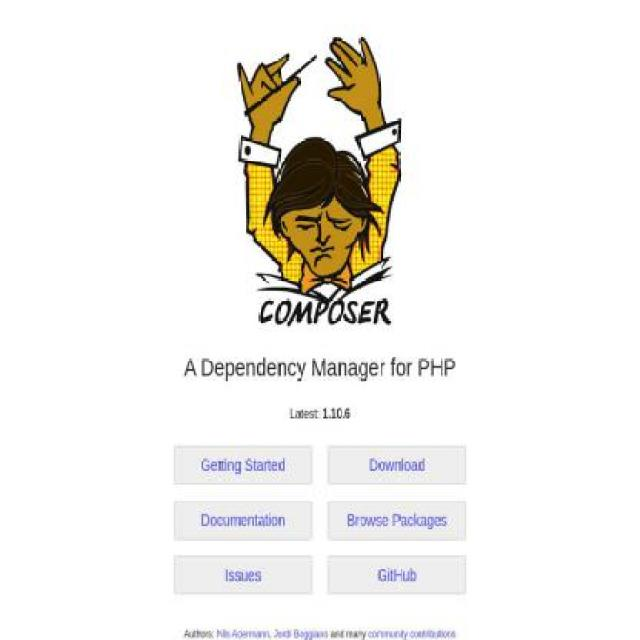button: (174, 444, 312, 484), (328, 444, 466, 484), (174, 554, 312, 594), (328, 554, 466, 594), (174, 500, 312, 538), (328, 500, 466, 538)
